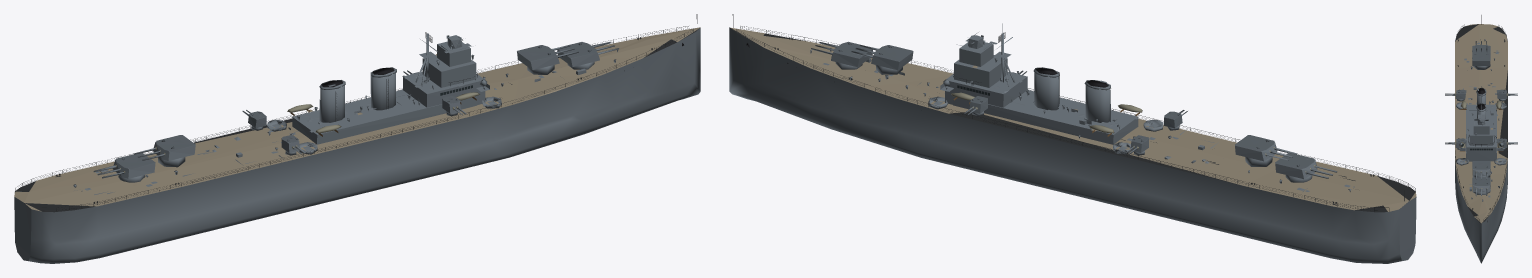
File: cleveland_lod.glb
3 renders of one model, left to right at view 1: azimuth 30°, elevation 25°; view 2: azimuth 150°, elevation 25°; view 3: azimuth 270°, elevation 25°, orthographic. The views are drawn at different scales.
Visible parts, largest first — view 1: cleveland_lod; view 2: cleveland_lod; view 3: cleveland_lod.
Part boxes in pixels (box(x1,y1,x2,y2)): cleveland_lod: box(14, 14, 700, 263); cleveland_lod: box(729, 14, 1416, 263); cleveland_lod: box(1445, 15, 1517, 263).
Size of the model in its own units: 185 by 36.5 by 27.86.
